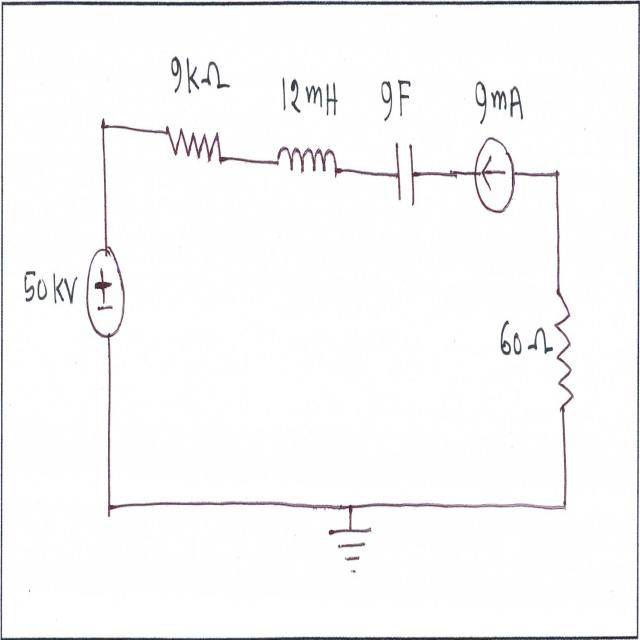capacitor: (391, 137, 418, 215)
current_source: (468, 130, 522, 215)
ground: (324, 524, 376, 582)
inductor: (270, 138, 339, 192)
resistor: (160, 110, 226, 176), (554, 281, 576, 414)
voltage_source: (84, 245, 128, 352)
